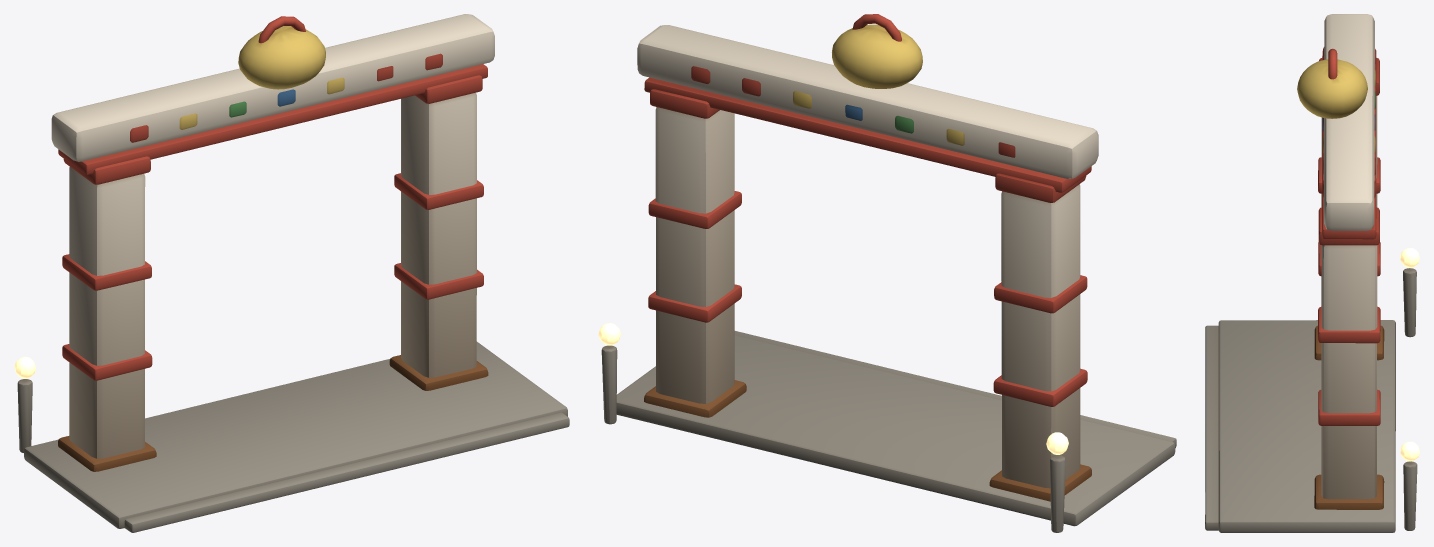
3 views of the same model, side by side, from view 1: azimuth 30°, elevation 25°; view 2: azimuth 150°, elevation 25°; view 3: azimuth 270°, elevation 25° (orthographic). The views are drawn at different scales.
Parts seen in each view (by area): view 1: gate_3c3c34a6; view 2: gate_3c3c34a6; view 3: gate_3c3c34a6.
Part boxes in pixels (x1,y1,x2,y2): gate_3c3c34a6: (14, 14, 569, 532); gate_3c3c34a6: (598, 14, 1176, 532); gate_3c3c34a6: (1205, 14, 1419, 532).
Bounding box in the file's own units: 5.7 × 5 × 2.55.
